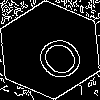O: (25, 25, 89, 85)
